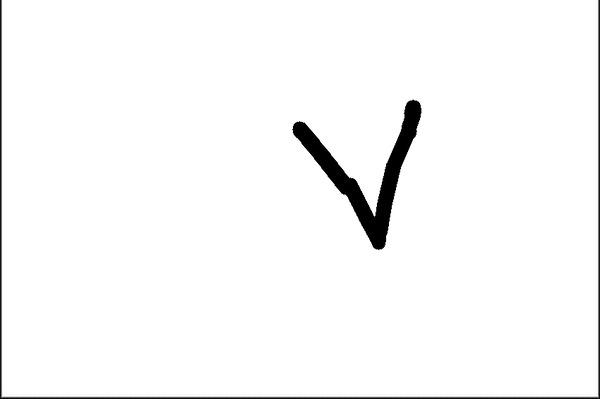V: (281, 94, 436, 255)
